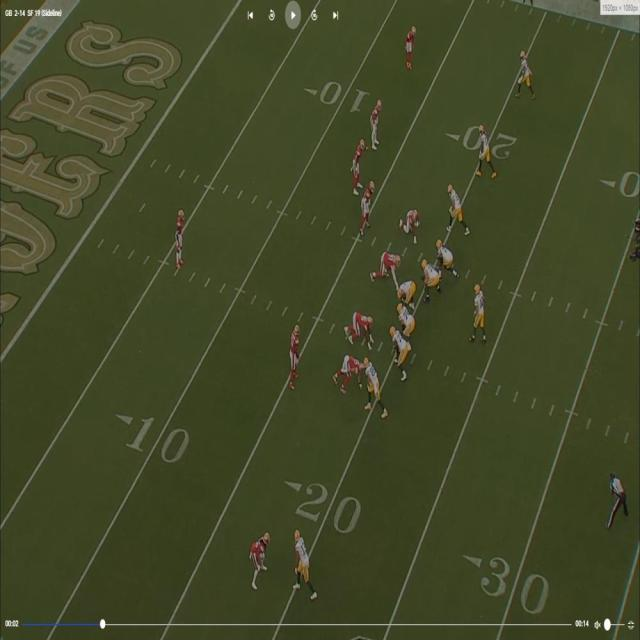center: (396, 280, 418, 307)
db: (250, 533, 268, 583), (352, 141, 362, 191), (178, 206, 186, 268), (373, 100, 383, 148), (404, 28, 414, 69)
lb: (361, 183, 374, 232), (289, 327, 299, 384)
qb: (474, 286, 484, 337)
skill: (294, 528, 312, 590), (366, 357, 383, 412), (447, 185, 466, 233), (478, 124, 494, 178), (520, 48, 530, 88)
